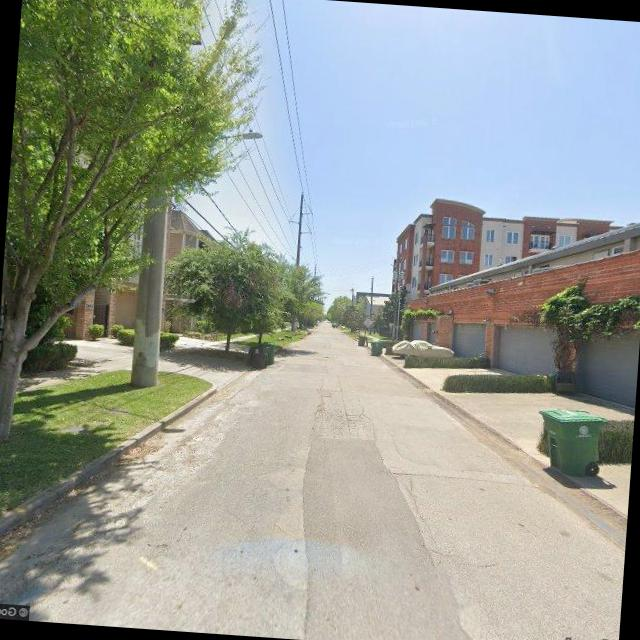crack: (312, 386, 378, 440)
